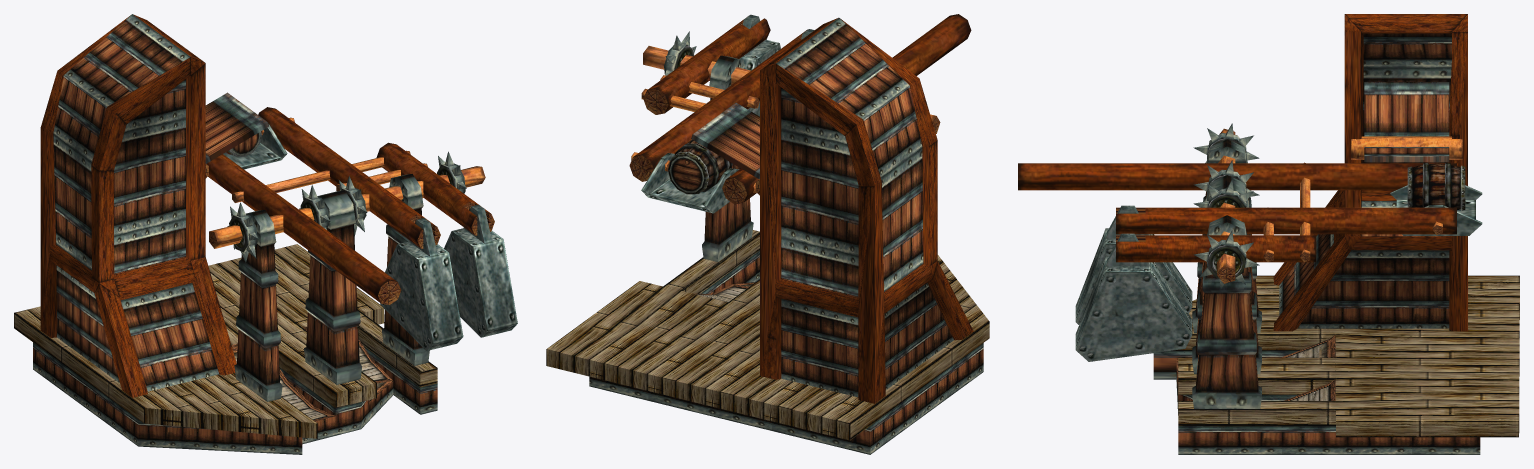
Rendered from INST_ANIM_CATAPULT.fbx.
The picture shows the model from 3 angles, left to right: view 1: azimuth 30°, elevation 25°; view 2: azimuth 150°, elevation 25°; view 3: azimuth 270°, elevation 25°; orthographic projection. The views are drawn at different scales.
Visible parts, largest first — view 1: INST_ANIM_CATAPULT; view 2: INST_ANIM_CATAPULT; view 3: INST_ANIM_CATAPULT.
Boxes of the visible parts, x1,y1,x2,y2 form: INST_ANIM_CATAPULT: (14, 14, 517, 454); INST_ANIM_CATAPULT: (546, 14, 989, 454); INST_ANIM_CATAPULT: (1018, 14, 1519, 454).
Bounding box in the file's own units: 51462 × 50544 × 64811.
12 materials, 12 textured.
